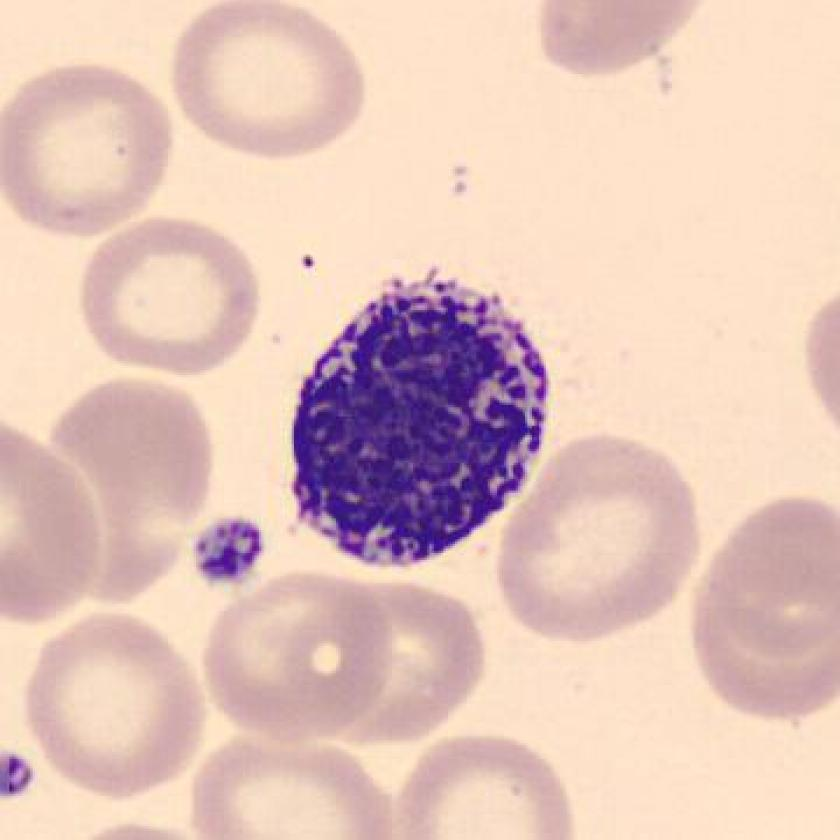basophil: (276, 270, 554, 584)
